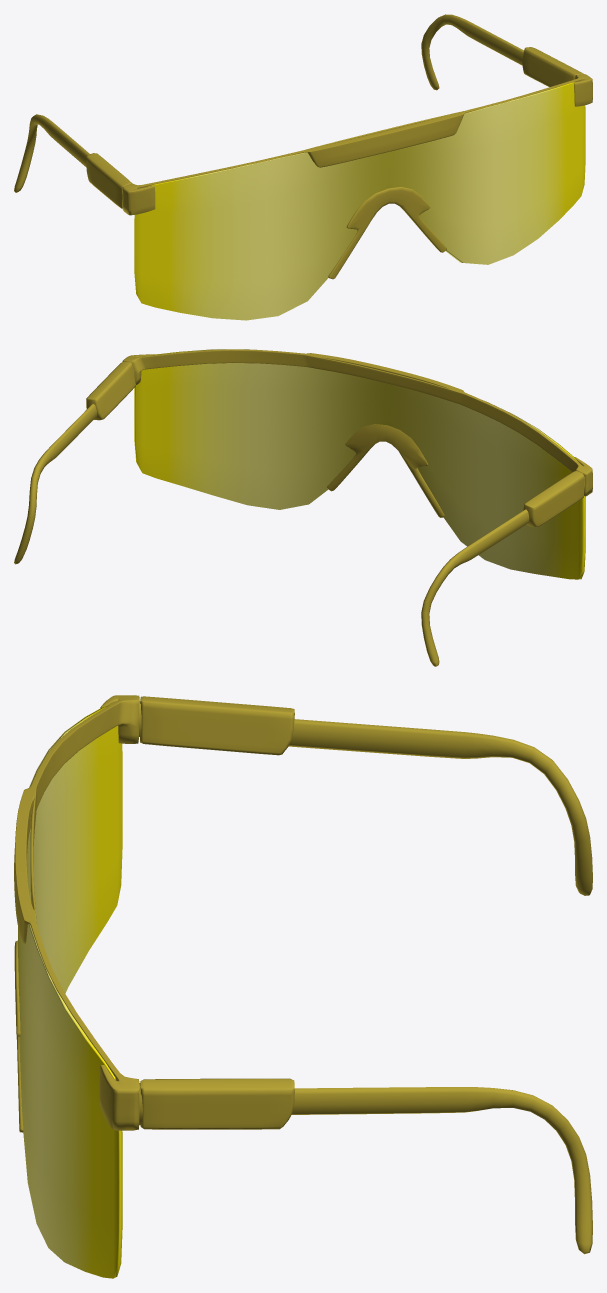
Rendered from Viper Gold.glb.
3 views of the same model, one above another, from view 1: azimuth 30°, elevation 25°; view 2: azimuth 150°, elevation 25°; view 3: azimuth 270°, elevation 25° (orthographic). The views are drawn at different scales.
Parts seen in each view (by area): view 1: Object_5; view 2: Object_5; view 3: Object_5.
Part boxes in pixels (x1=…): Object_5: x1=14, y1=14, x2=592, y2=320; Object_5: x1=14, y1=349, x2=592, y2=666; Object_5: x1=14, y1=695, x2=592, y2=1278.
Size of the model in its own units: 0.5484 by 0.1823 by 0.3388.
2 materials, 1 textured.
